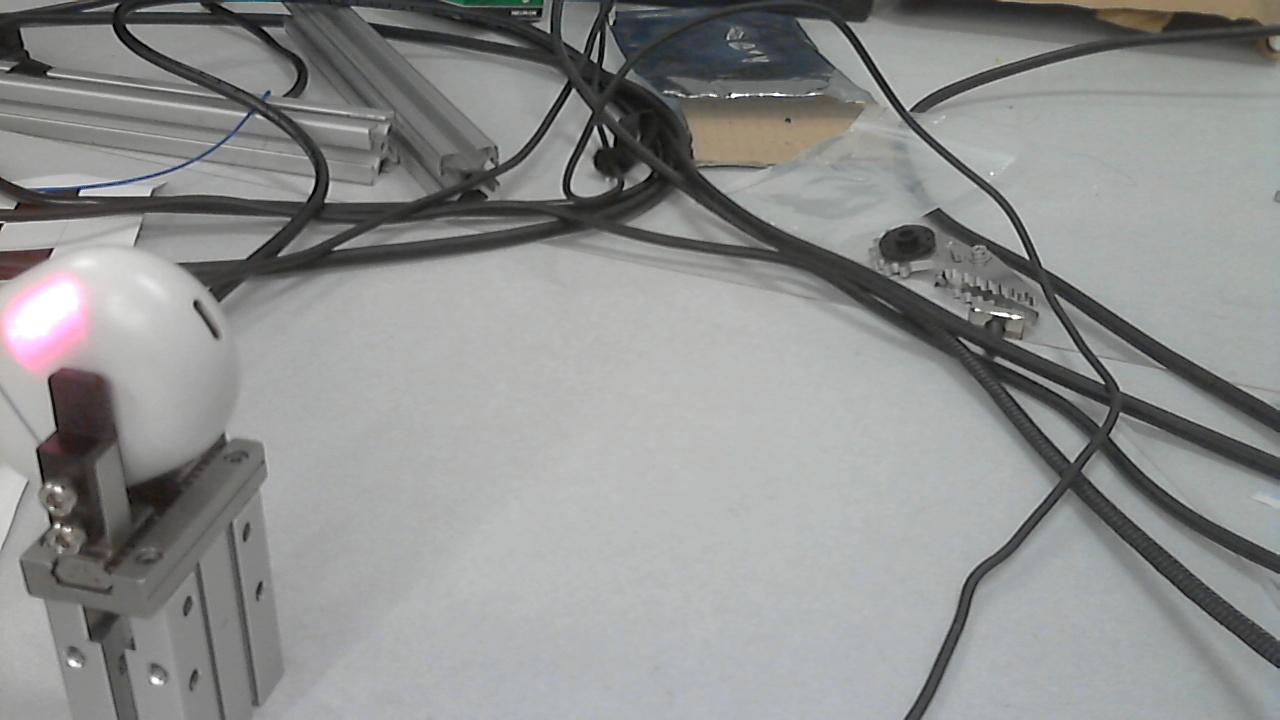Object wireless earbud charging case - Material plastic - Pdfname qzJIPQkli2jB: (0, 265, 111, 387)
